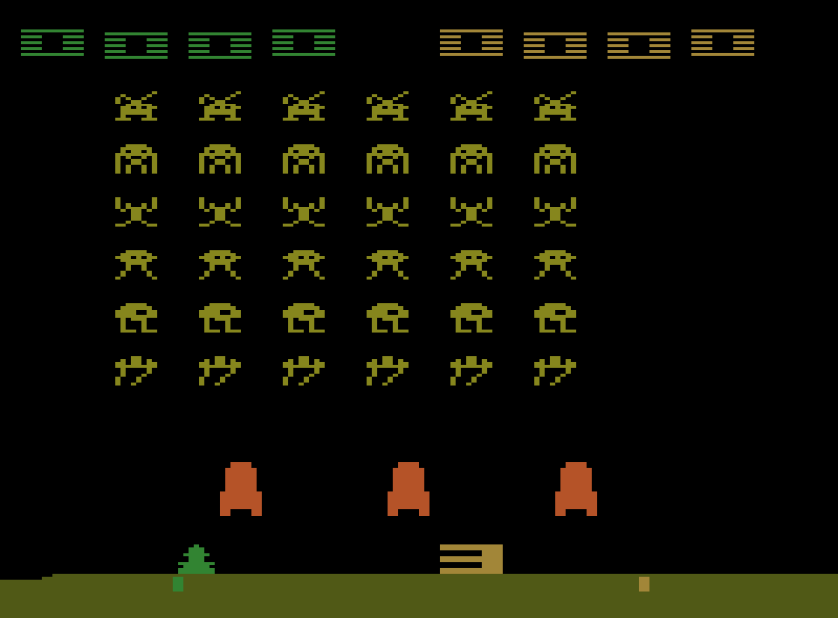invader1: (198, 88, 244, 123), (281, 88, 327, 123), (449, 88, 494, 123), (114, 88, 160, 122), (533, 89, 578, 123), (365, 90, 409, 122)
invader2: (197, 141, 244, 177), (449, 142, 494, 177), (280, 142, 327, 175), (365, 143, 410, 177), (532, 142, 577, 176), (113, 143, 158, 175)
invader3: (280, 193, 327, 229), (198, 193, 244, 229), (113, 193, 159, 228), (532, 195, 579, 228), (365, 195, 410, 229), (449, 195, 494, 229)
invader4: (114, 247, 160, 282), (282, 247, 327, 282), (198, 247, 244, 281), (366, 248, 410, 282), (533, 249, 578, 282), (450, 249, 495, 281)
invader5: (197, 300, 243, 335), (113, 300, 159, 334), (282, 301, 327, 335), (450, 301, 494, 335), (533, 301, 577, 335), (365, 302, 409, 334)
invader6: (280, 354, 327, 389), (449, 353, 495, 388), (532, 354, 578, 389), (364, 354, 411, 388), (113, 354, 158, 388), (198, 353, 243, 387)
player: (175, 540, 217, 575)
